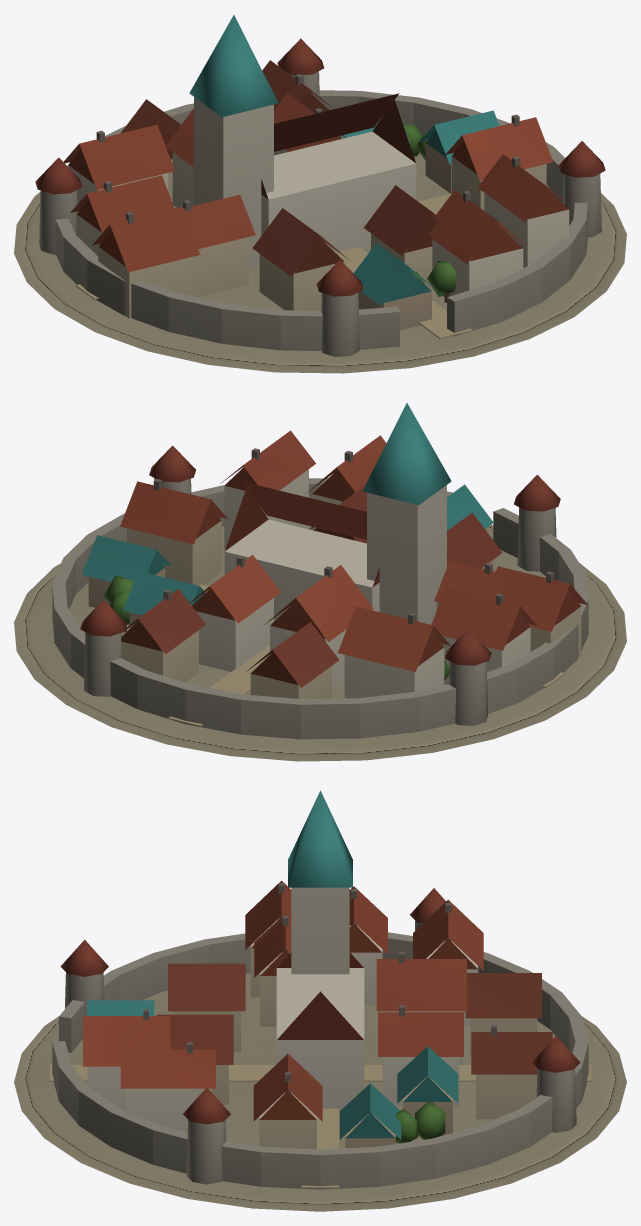
The model's file is settlement_0_3.glb.
3 views of the same model, one above another, from view 1: azimuth 30°, elevation 25°; view 2: azimuth 150°, elevation 25°; view 3: azimuth 270°, elevation 25° (orthographic).
Parts seen in each view (by area): view 1: part_0; view 2: part_0; view 3: part_0.
Part boxes in pixels (x1,y1,x2,y2): part_0: [14, 15, 626, 373]; part_0: [14, 403, 626, 761]; part_0: [14, 790, 626, 1211].
Size of the model in its own units: 32.8 by 14.76 by 32.8.
